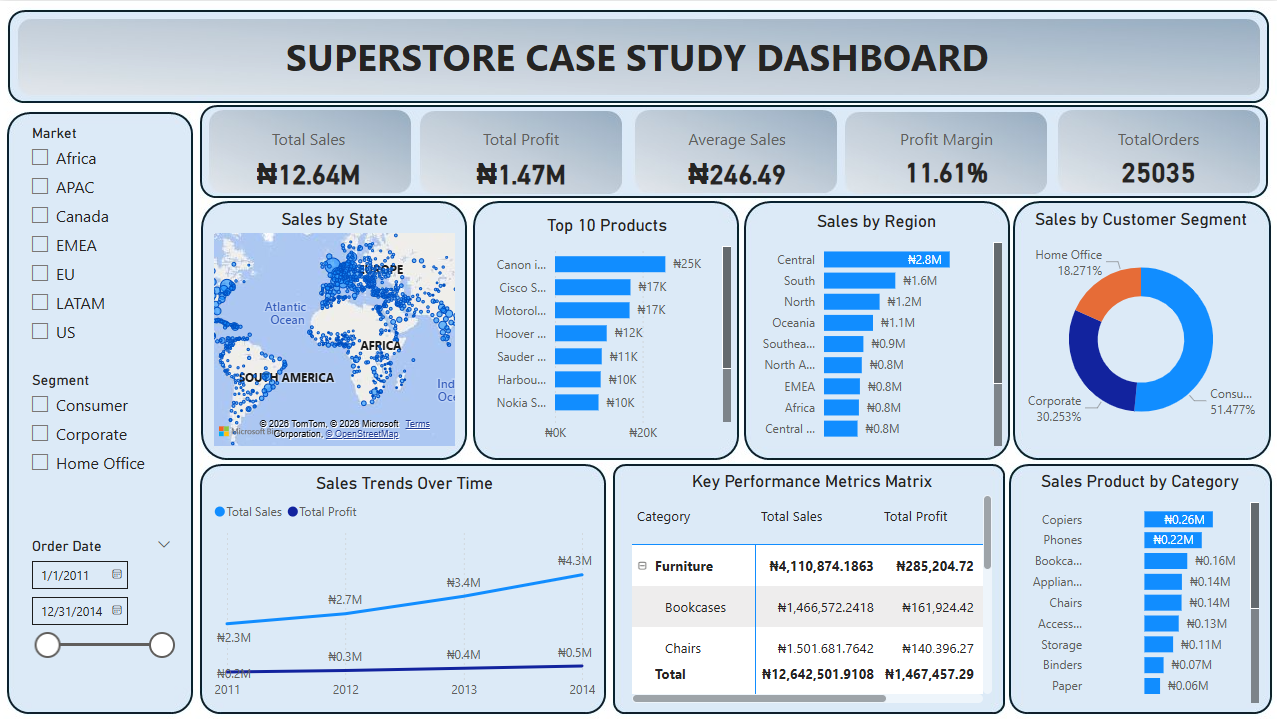

The dashboard page shown, as its layout file describes it:
{"tool":"powerbi","page":{"name":"Dashboard","canvas":[1280,720],"ordinal":0},"visuals":[{"type":"clusteredBarChart","title":"Sales by Region","fields":{"Category":["Sheet1.Region"],"Y":["Sheet1.Total Sales"]},"box":[746.9,210.1,261.2,239.7],"z":0},{"type":"donutChart","title":"Sales by Customer Segment","fields":{"Category":["Sheet1.Segment"],"Y":["Sheet1.Total Sales"]},"box":[1017.2,208.3,249.6,241.5],"z":1000},{"type":"clusteredBarChart","title":"Sales Product by Category","fields":{"Category":["Sheet1.Sub-Category"],"Y":["Sheet1.Total Profit"]},"box":[1017.2,469.5,247.8,237.9],"z":2000},{"type":"lineChart","title":"Sales Trends Over Time","fields":{"Category":["Sheet1.Order Date.Variation.Date Hierarchy.Year","Sheet1.Order Date.Variation.Date Hierarchy.Month"],"Y":["Sheet1.Total Sales","Sheet1.Total Profit"]},"box":[210.1,472.2,390.5,235.2],"z":3000},{"type":"pivotTable","title":"Key Performance Metrics Matrix","fields":{"Rows":["Sheet1.Category","Sheet1.Sub-Category"],"Values":["Sheet1.Total Sales","Sheet1.Total Profit","Sheet1.Profit Margin"]},"box":[628.4,469.5,369.9,237.9],"z":4000},{"type":"clusteredBarChart","title":"Top 10 Products","fields":{"Category":["Sheet1.Product Name"],"Y":["Sheet1.Total Profit"]},"box":[479.4,213.7,257.7,236.1],"z":5000},{"type":"cardVisual","fields":{"Data":["Sheet1.Total Sales"]},"box":[219.1,109.5,180.4,81.7],"z":6000},{"type":"cardVisual","fields":{"Data":["Sheet1.Total Profit"]},"box":[424.6,109.5,194.8,81.7],"z":7000},{"type":"cardVisual","fields":{"Data":["Sheet1.Average Sales"]},"box":[640.1,109.5,195.7,81.7],"z":8000},{"type":"cardVisual","fields":{"Data":["Sheet1.Profit Margin"]},"box":[852,109.5,191.2,81.7],"z":9000},{"type":"cardVisual","fields":{"Data":["Sheet1.TotalOrders"]},"box":[1061.1,109.5,196.6,81.7],"z":10000},{"type":"slicer","fields":{"Values":["Sheet1.Market"]},"box":[19.8,119.4,164.3,237.9],"z":11000},{"type":"slicer","fields":{"Values":["Sheet1.Segment"]},"box":[19.8,366.3,164.3,156.2],"z":12000},{"type":"slicer","fields":{"Values":["Sheet1.Order Date"]},"box":[19.8,532.4,164.3,173.3],"z":13000},{"type":"textbox","box":[28.7,25.1,1219.2,65.5],"z":14000},{"type":"map","title":"Sales by State","fields":{"Category":["Sheet1.State"],"Size":["Sheet1.Total Sales"]},"box":[210.1,208.3,250.5,241.5],"z":15000}]}

Visuals, with their boxes in screenshot pixels (x1, y1, x2, y2), scaled from the page's 1280x720 canvas onto the 1277x719 screenshot:
"Sales by Region" clusteredBarChart: l=745, t=210, r=1006, b=449
"Sales by Customer Segment" donutChart: l=1015, t=208, r=1264, b=449
"Sales Product by Category" clusteredBarChart: l=1015, t=469, r=1262, b=706
"Sales Trends Over Time" lineChart: l=210, t=472, r=599, b=706
"Key Performance Metrics Matrix" pivotTable: l=627, t=469, r=996, b=706
"Top 10 Products" clusteredBarChart: l=478, t=213, r=735, b=449
cardVisual - Sheet1.Total Sales: l=219, t=109, r=399, b=191
cardVisual - Sheet1.Total Profit: l=424, t=109, r=618, b=191
cardVisual - Sheet1.Average Sales: l=639, t=109, r=834, b=191
cardVisual - Sheet1.Profit Margin: l=850, t=109, r=1041, b=191
cardVisual - Sheet1.TotalOrders: l=1059, t=109, r=1255, b=191
slicer - Sheet1.Market: l=20, t=119, r=184, b=357
slicer - Sheet1.Segment: l=20, t=366, r=184, b=522
slicer - Sheet1.Order Date: l=20, t=532, r=184, b=705
textbox: l=29, t=25, r=1245, b=90
"Sales by State" map: l=210, t=208, r=460, b=449
